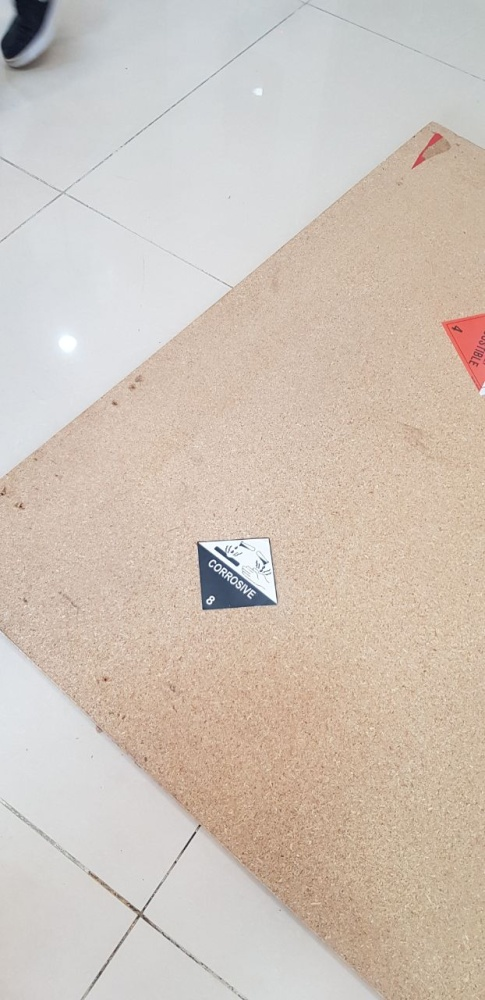Corrosive: (197, 537, 279, 611)
